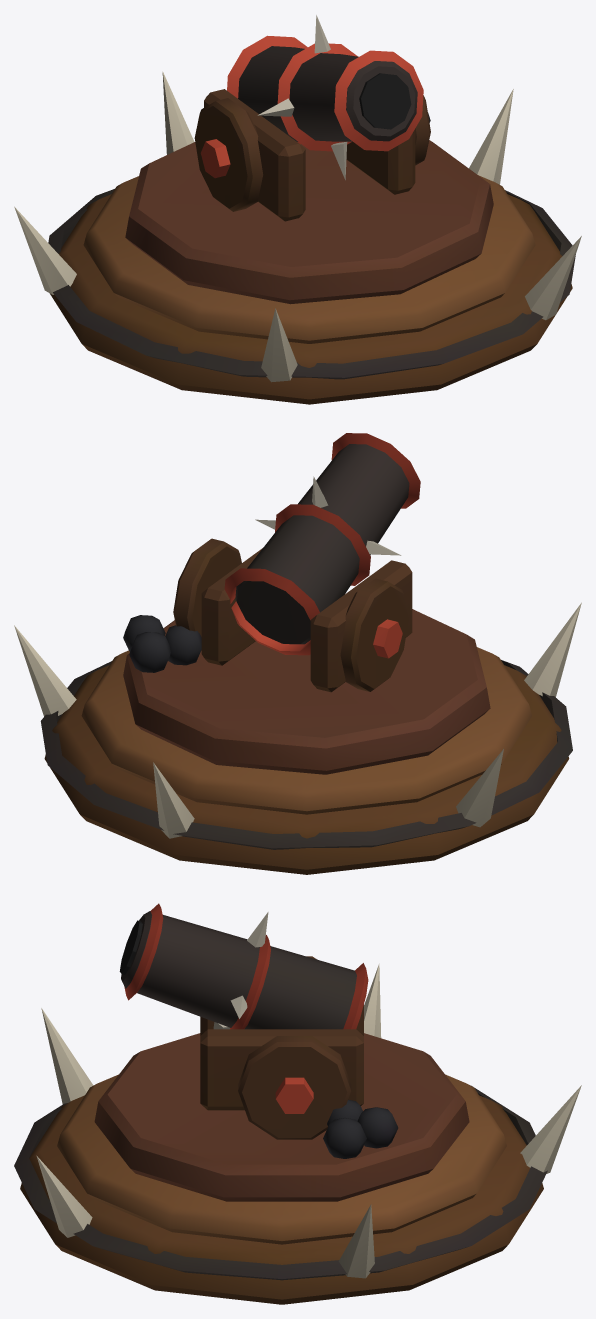
Rendered from horde_3.glb.
3 views of the same model, one above another, from view 1: azimuth 30°, elevation 25°; view 2: azimuth 150°, elevation 25°; view 3: azimuth 270°, elevation 25° (orthographic).
Parts seen in each view (by area): view 1: horde_3_peint, Fut_peint, Tourelle_peint; view 2: horde_3_peint, Fut_peint, Tourelle_peint; view 3: horde_3_peint, Fut_peint, Tourelle_peint.
Boxes of the visible parts, x1,y1,x2,y2 form: horde_3_peint: [14, 71, 581, 404]; Fut_peint: [227, 15, 423, 180]; Tourelle_peint: [194, 89, 430, 221]; horde_3_peint: [14, 602, 581, 874]; Fut_peint: [224, 433, 420, 655]; Tourelle_peint: [123, 538, 412, 692]; horde_3_peint: [14, 964, 581, 1304]; Fut_peint: [119, 903, 368, 1029]; Tourelle_peint: [200, 956, 398, 1158].
Bounding box in the file's own units: 0.9055 × 0.5069 × 0.9026.
